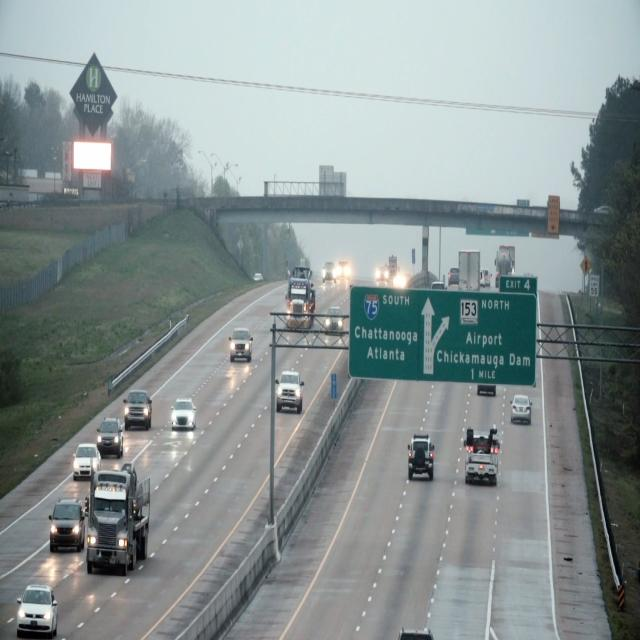Car: (89, 467, 153, 572), (14, 580, 62, 640), (464, 423, 502, 491), (287, 262, 318, 332), (49, 499, 85, 553), (404, 429, 438, 484), (274, 367, 308, 417), (123, 387, 154, 431), (227, 324, 257, 362), (98, 415, 125, 457), (72, 443, 101, 482), (170, 396, 197, 435), (510, 391, 533, 426), (322, 304, 346, 337)
